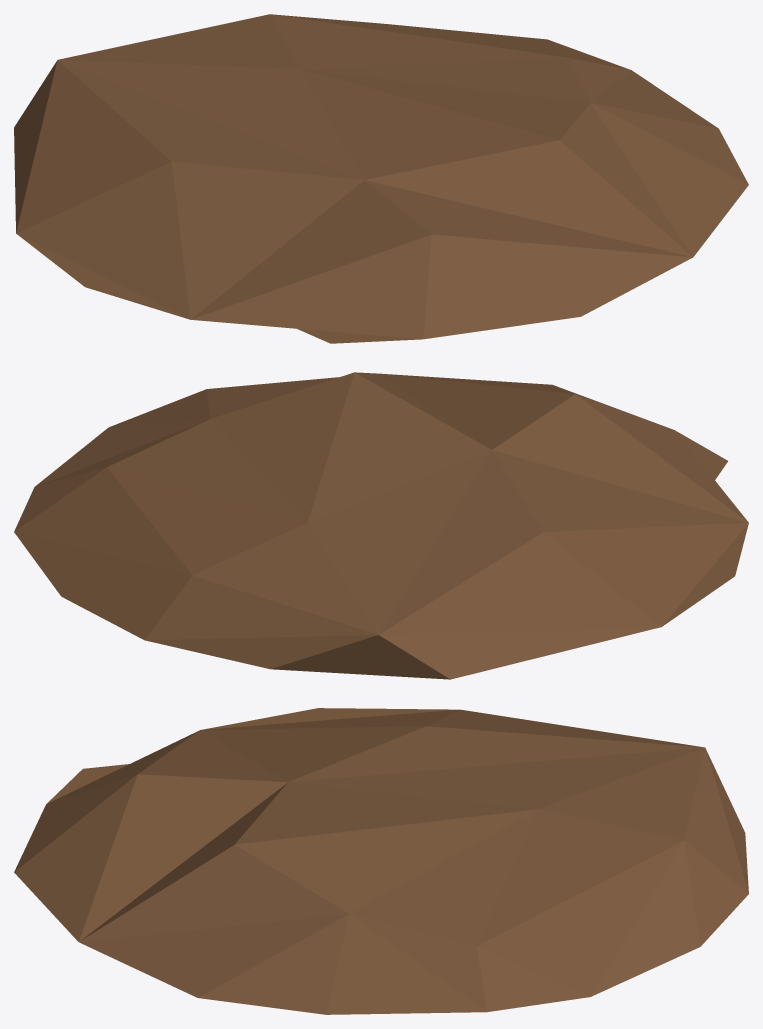
Rendered from SM_Prop_Pot_Large_Soup_03.fbx.
3 renders of one model, top to bottom at view 1: azimuth 30°, elevation 25°; view 2: azimuth 150°, elevation 25°; view 3: azimuth 270°, elevation 25°, orthographic. The views are drawn at different scales.
Visible parts, largest first — view 1: SM_Prop_Pot_Large_Soup_03; view 2: SM_Prop_Pot_Large_Soup_03; view 3: SM_Prop_Pot_Large_Soup_03.
Part boxes in pixels (x1,y1,x2,y2): SM_Prop_Pot_Large_Soup_03: [14, 14, 748, 343]; SM_Prop_Pot_Large_Soup_03: [14, 372, 748, 679]; SM_Prop_Pot_Large_Soup_03: [14, 708, 748, 1014].
Size of the model in its own units: 111 by 12.1 by 113.
